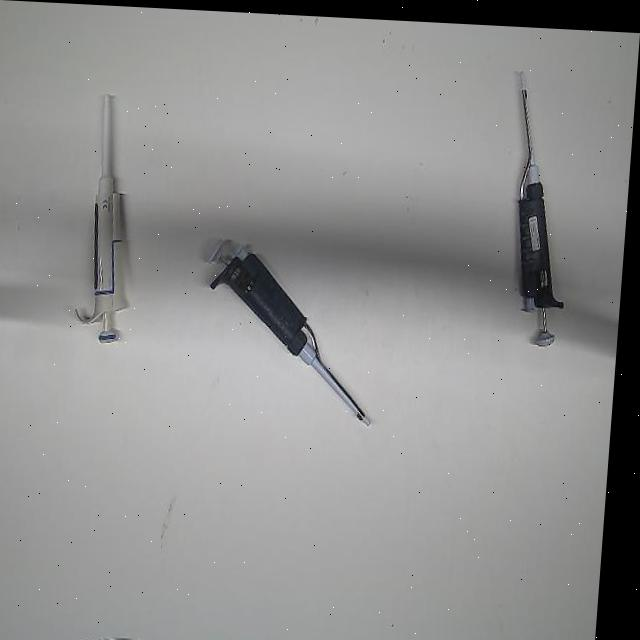Single Channel Pipettor: (198, 227, 391, 424), (498, 62, 588, 345), (76, 86, 148, 345)
